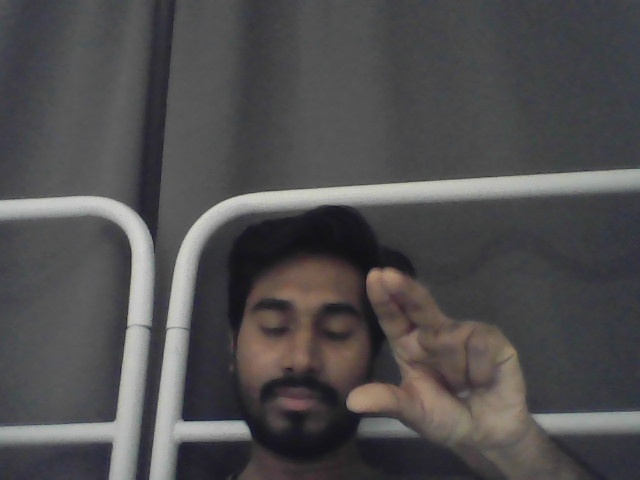no: (346, 267, 544, 454)
